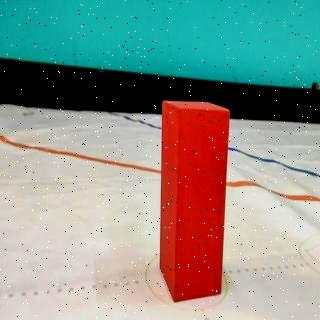redbox: (162, 101, 222, 301)
